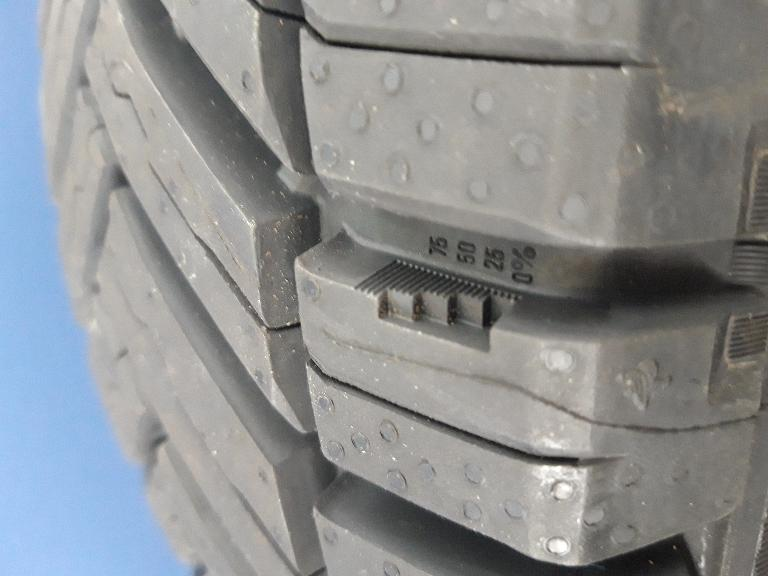temoin:100: (348, 252, 531, 361)
